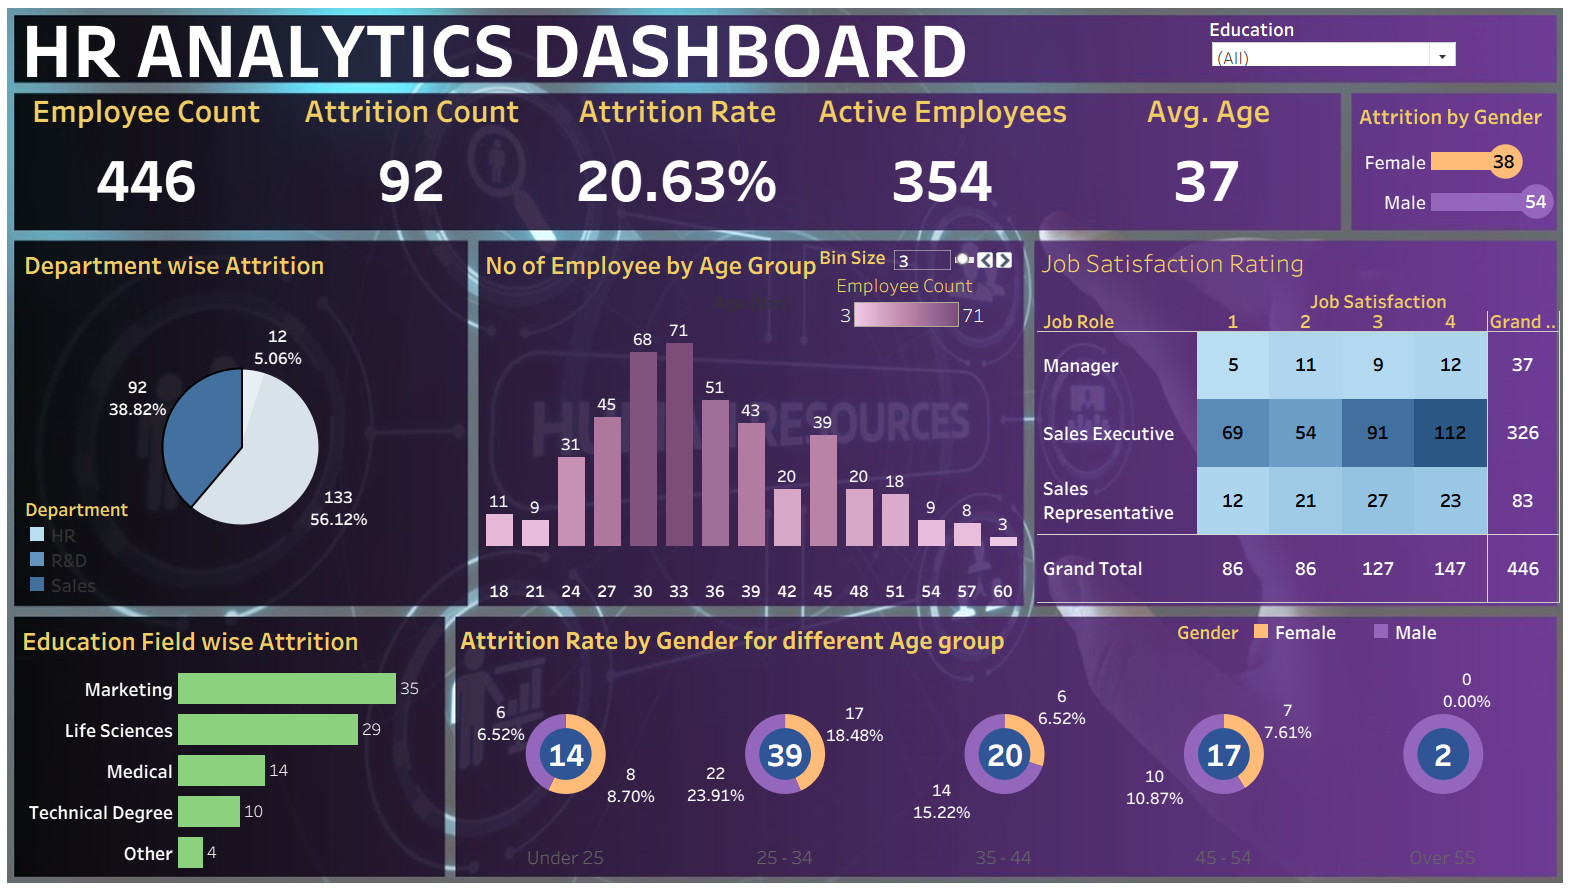

What the dashboard file says about the page in this screenshot:
{"tool":"tableau","page":{"name":"HR Analytics Dashboard","canvas":[1580,900],"ordinal":0},"visuals":[{"type":"image","param":"Image/HR background_1.jpg","box":[8,8,1564,884]},{"type":"filter","title":"Department wise Attrition","param":"[federated.1ddryoc11gwzvg1ckwp3c1xb1l9n].[none:Education:nk]","box":[1214,20,250,50]},{"type":"text","box":[22,22,1032,59]},{"type":"worksheet","title":"KPI","mark":"Automatic","box":[19,94,1327,138]},{"type":"worksheet","title":"Attrition by Gender","mark":"Automatic","rows":["Gender"],"cols":["Calculation_5594596641970614272","Calculation_5594596641970614272"],"box":[1360,102,205,124]},{"type":"worksheet","title":"Job Satisfaction Rating","mark":"Square","rows":["Job Role"],"cols":["Job Satisfaction"],"box":[1042,246,523,361]},{"type":"worksheet","title":"Department wise Attrition","mark":"Pie","box":[25,248,442,358]},{"type":"worksheet","title":"No of Employee by Age Group","mark":"Automatic","rows":["Employee Count"],"cols":["Age (bin)"],"box":[486,248,540,359]},{"type":"parameter","param":"[Parameters].[Parameter 1]","box":[824,251,196,34]},{"type":"legend","title":"No of Employee by Age Group","param":"[federated.1ddryoc11gwzvg1ckwp3c1xb1l9n].[sum:Employee Count:qk]","box":[841,276,153,64]},{"type":"legend","title":"Department wise Attrition","param":"[federated.1ddryoc11gwzvg1ckwp3c1xb1l9n].[none:Department:nk]","box":[30,500,140,101]},{"type":"worksheet","title":"Attrition Rate by Gender for different Age group","mark":"Pie","rows":["Calculation_4152881811620913152","Calculation_4152881811620913152"],"cols":["CF_age band"],"box":[461,623,1097,251]},{"type":"legend","title":"Attrition Rate by Gender for different Age group","param":"[federated.1ddryoc11gwzvg1ckwp3c1xb1l9n].[none:Gender:nk]","box":[1182,623,376,43]},{"type":"worksheet","title":"Education Field wise Attrition","mark":"Automatic","rows":["Education Field"],"cols":["Calculation_5594596641970614272"],"box":[23,624,421,253]}]}

Visuals, with their boxes in screenshot pixels (x1, y1, x2, y2), scaled from the page's 1580x900 canvas onto the 1570x891 screenshot:
image: <box>8,8,1562,883</box>
"Department wise Attrition" filter: <box>1206,20,1455,69</box>
text: <box>22,22,1047,80</box>
"KPI" worksheet: <box>19,93,1337,230</box>
"Attrition by Gender" worksheet: <box>1351,101,1555,224</box>
"Job Satisfaction Rating" worksheet (Square marks): <box>1035,244,1555,601</box>
"Department wise Attrition" worksheet (Pie marks): <box>25,246,464,600</box>
"No of Employee by Age Group" worksheet: <box>483,246,1020,601</box>
parameter: <box>819,248,1014,282</box>
"No of Employee by Age Group" legend: <box>836,273,988,337</box>
"Department wise Attrition" legend: <box>30,495,169,595</box>
"Attrition Rate by Gender for different Age group" worksheet (Pie marks): <box>458,617,1548,865</box>
"Attrition Rate by Gender for different Age group" legend: <box>1175,617,1548,659</box>
"Education Field wise Attrition" worksheet: <box>23,618,441,868</box>
